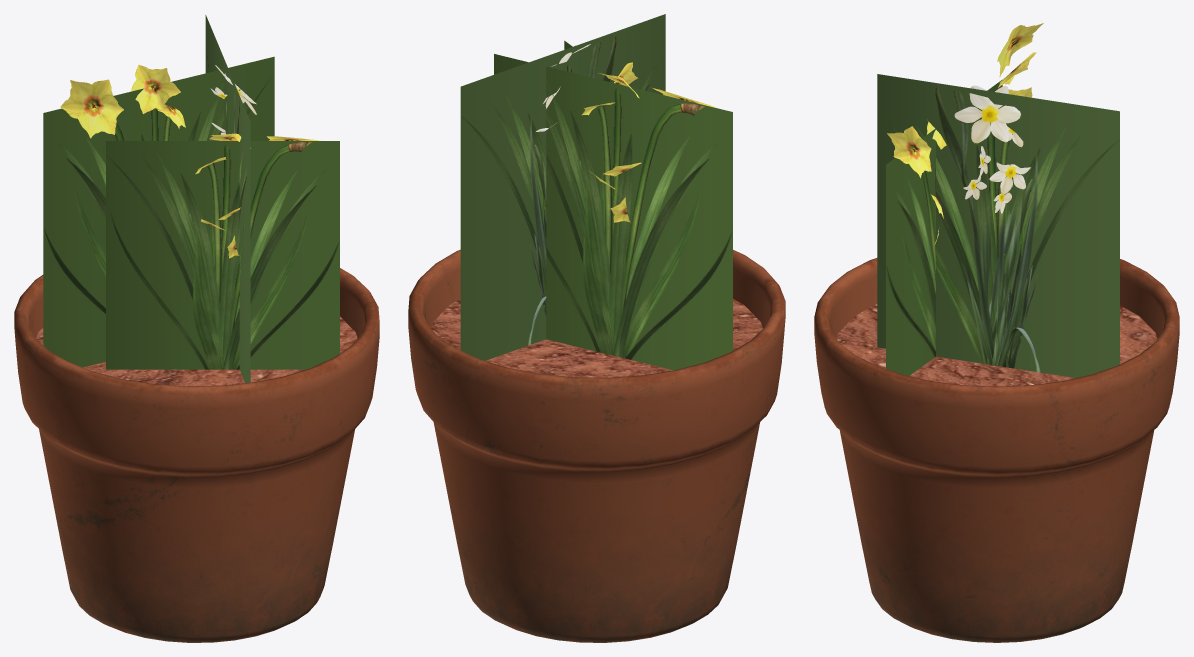
The model's file is maceta_narcisos.obj.
3 views of the same model, side by side, from view 1: azimuth 30°, elevation 25°; view 2: azimuth 150°, elevation 25°; view 3: azimuth 270°, elevation 25° (orthographic). The views are drawn at different scales.
Parts seen in each view (by area): view 1: maceta_narcisos; view 2: maceta_narcisos; view 3: maceta_narcisos.
Part boxes in pixels (bbox=[...]): maceta_narcisos: bbox=[14, 15, 379, 642]; maceta_narcisos: bbox=[408, 14, 785, 642]; maceta_narcisos: bbox=[814, 23, 1179, 642].
Size of the model in its own units: 0.3521 by 0.56 by 0.3521.
